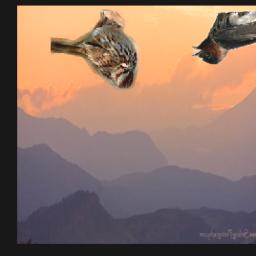Sparrow: (51, 10, 139, 91)
Swallow: (191, 10, 256, 64)
